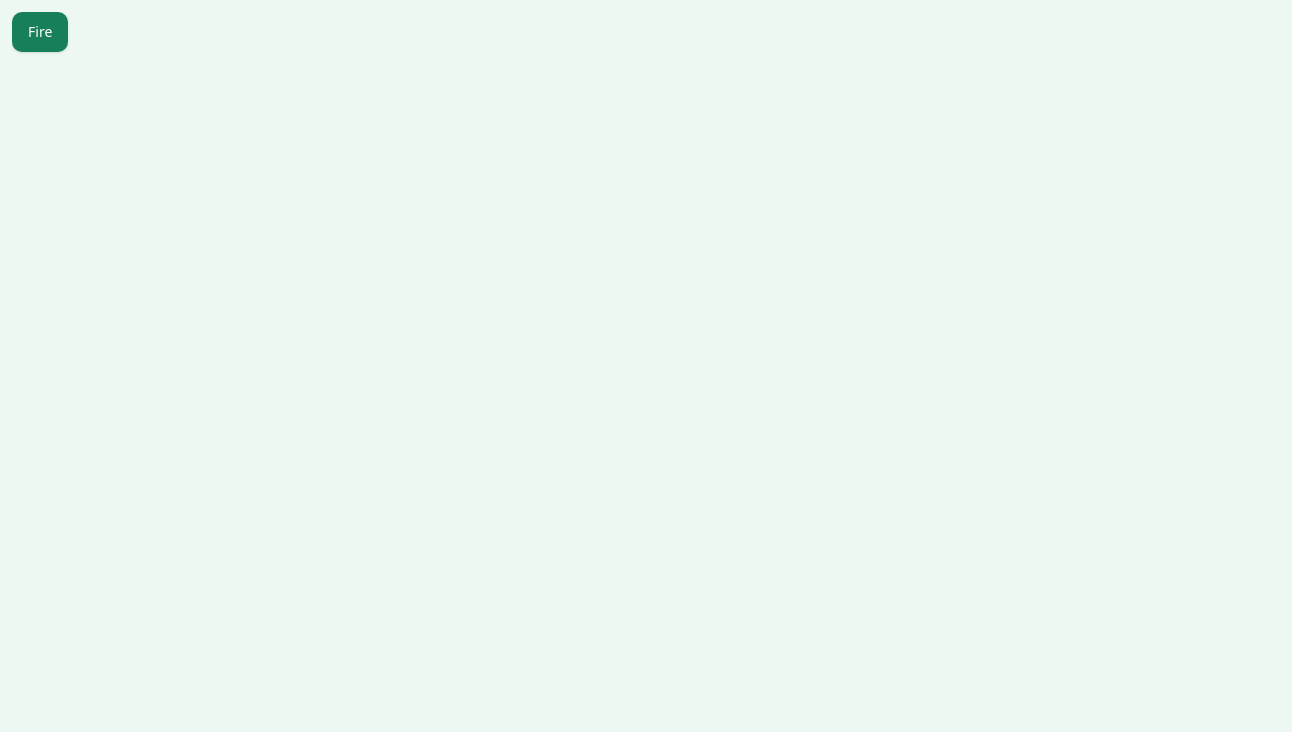
Test: ToastProvider › announces toasts and lets people dismiss them
Click the button "Fire" at (40, 32), box [12,12,68,52]
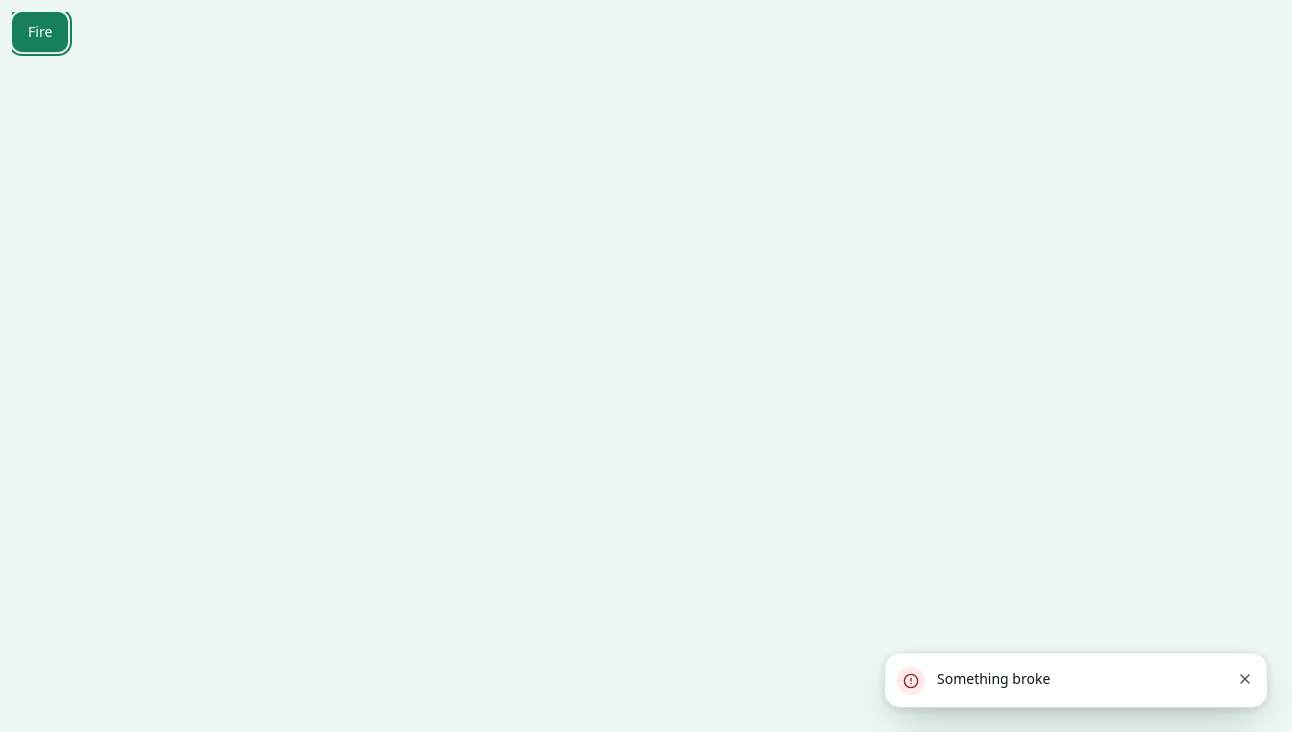
Expected: the message reads "Something broke", [937,669,1050,688]
Click the button named "Dismiss notification" at (1245, 679), box [1231,665,1259,693]
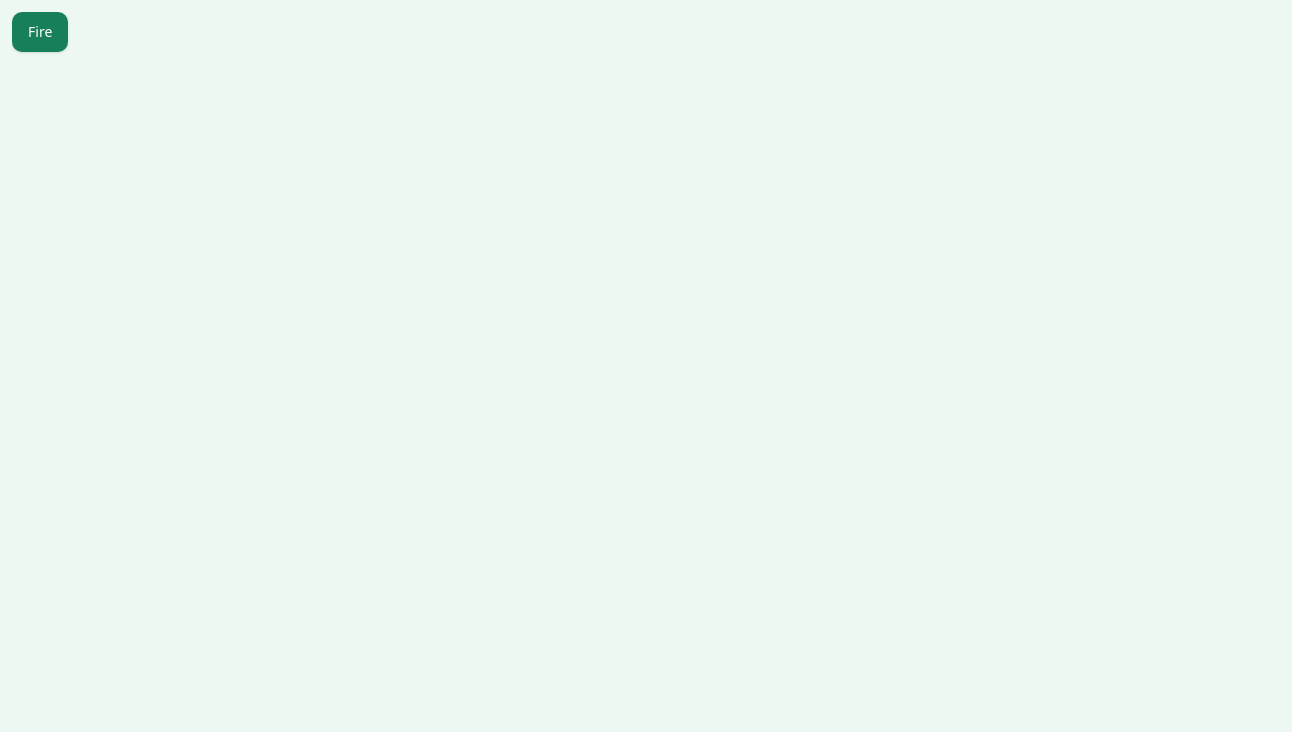
Expected: the message "Something broke" is gone
